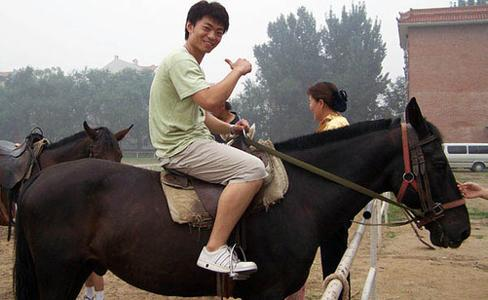person: (149, 2, 268, 275)
